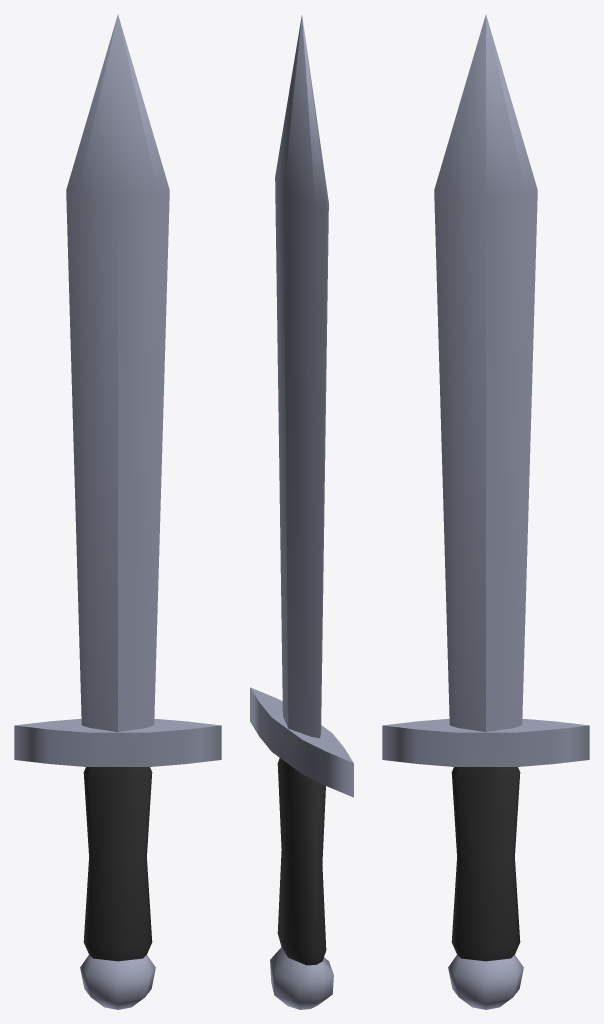
File: steel_shortsword.glb
3 renders of one model, left to right at view 1: azimuth 90°, elevation 25°; view 2: azimuth 210°, elevation 25°; view 3: azimuth 270°, elevation 25°, orthographic.
Parts seen in each view (by area): view 1: Steel Short Sword; view 2: Steel Short Sword; view 3: Steel Short Sword.
Boxes of the visible parts, box(x1,y1,x2,y2) form: Steel Short Sword: box(14, 15, 221, 1009); Steel Short Sword: box(250, 15, 353, 1009); Steel Short Sword: box(382, 15, 589, 1009).
Size of the model in its own units: 0.028 by 0.4782 by 0.0909.
